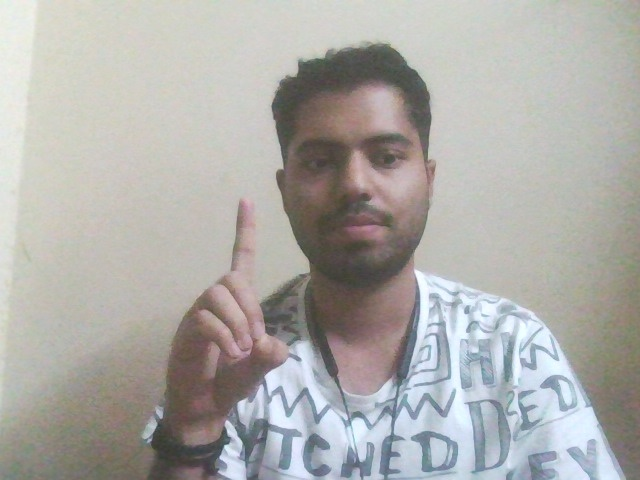Please: (139, 182, 315, 415)
